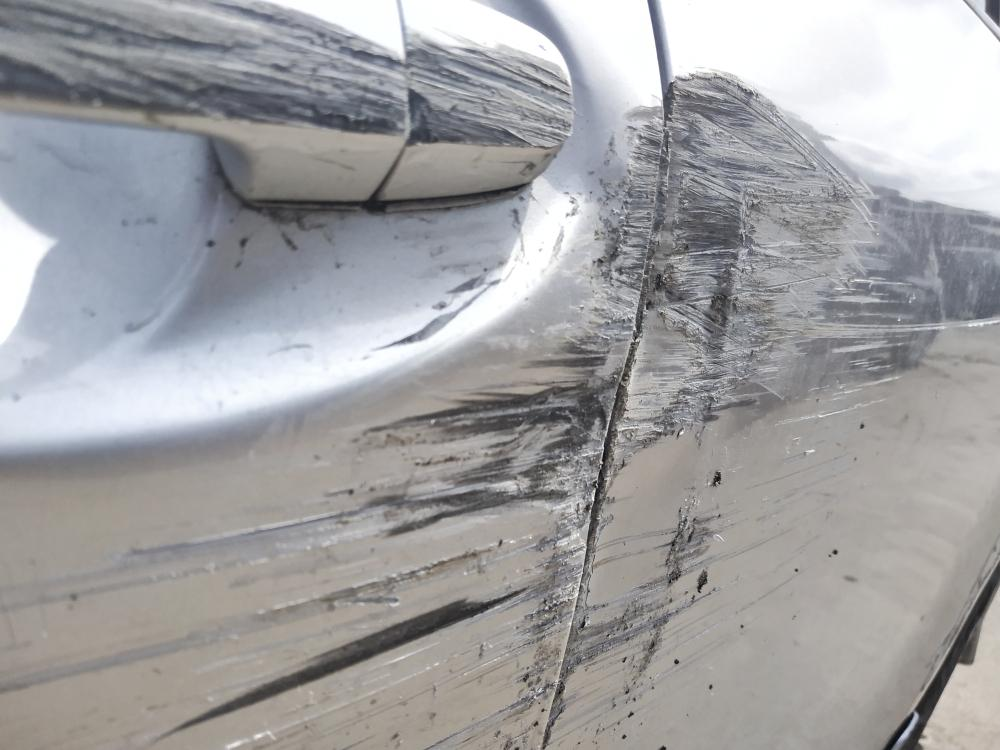scratch: (0, 96, 665, 750), (545, 70, 1000, 750), (0, 0, 572, 149), (379, 207, 532, 352)
